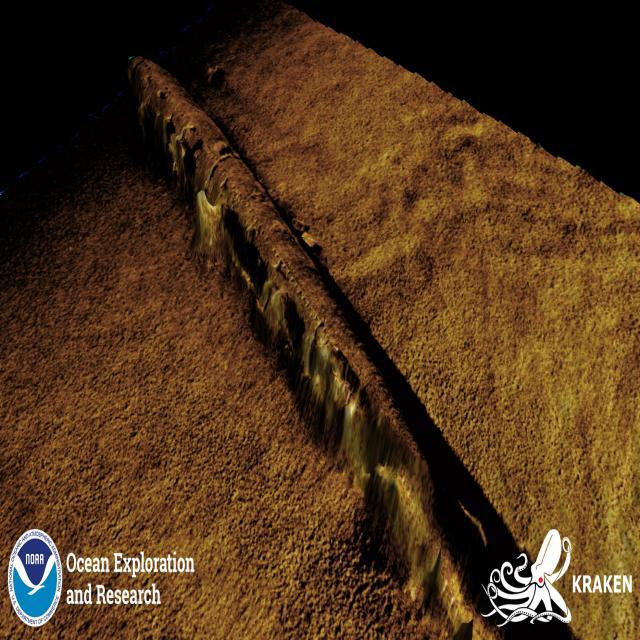shipwreck: (120, 44, 474, 628)
